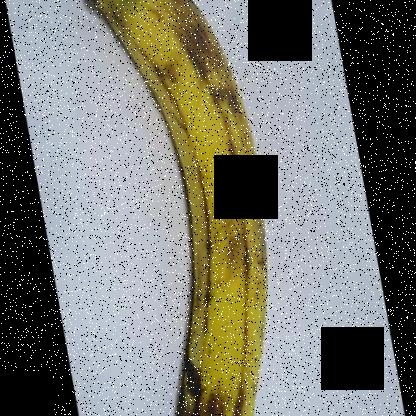overripe: (79, 1, 274, 415)
